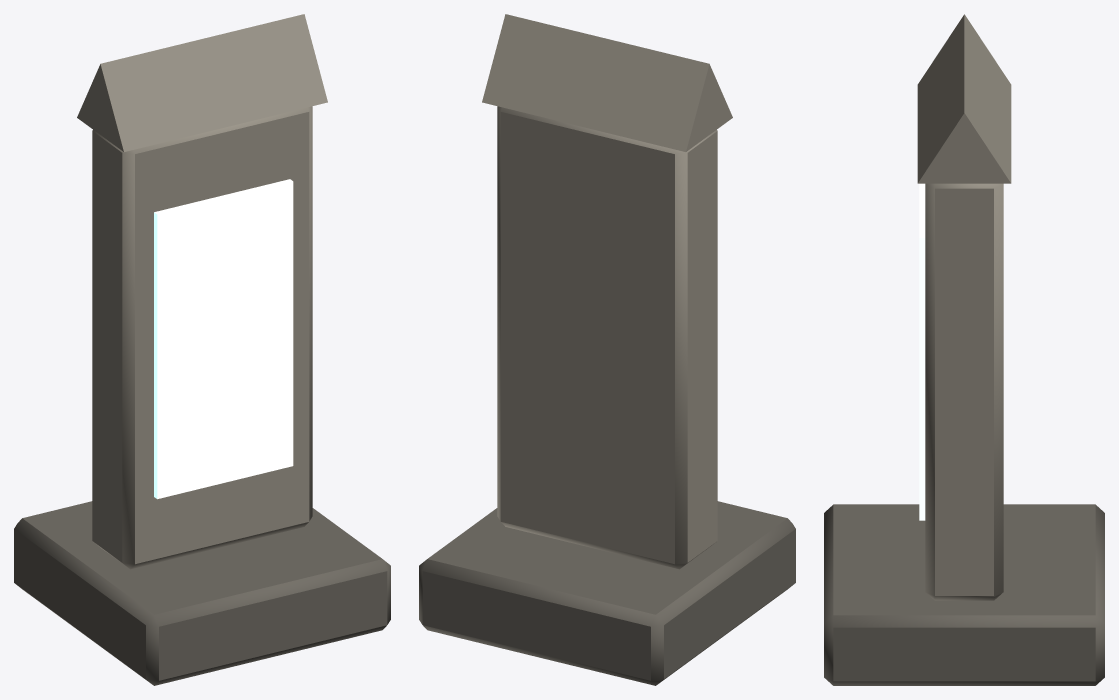
Rendered from tablet.glb.
3 renders of one model, left to right at view 1: azimuth 30°, elevation 25°; view 2: azimuth 150°, elevation 25°; view 3: azimuth 270°, elevation 25°, orthographic.
Parts seen in each view (by area): view 1: building, runes; view 2: building; view 3: building, runes.
Boxes of the visible parts, x1,y1,x2,y2 form: building: (14,14,390,685); runes: (154,179,293,499); building: (419,14,795,685); building: (824,14,1104,685); runes: (919,183,925,520).
Bounding box in the file's own units: 0.9 × 2.01 × 0.9.
